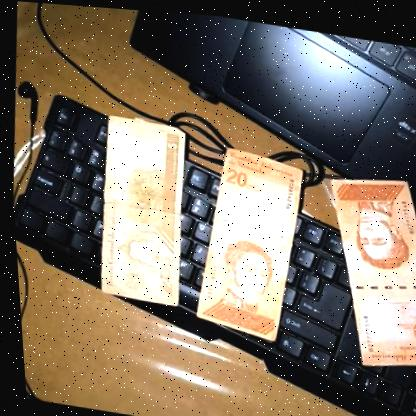five-back-vef: (87, 113, 193, 304)
twenty-front-vef: (182, 137, 312, 344), (309, 162, 416, 370)
